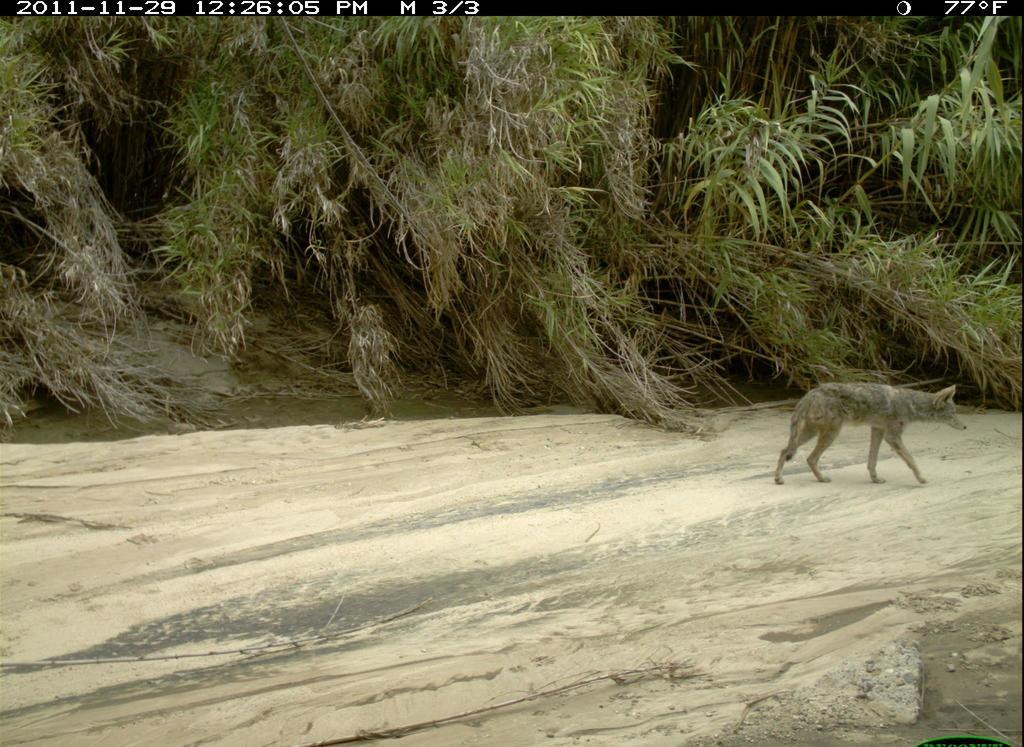coyote: (770, 368, 980, 500)
